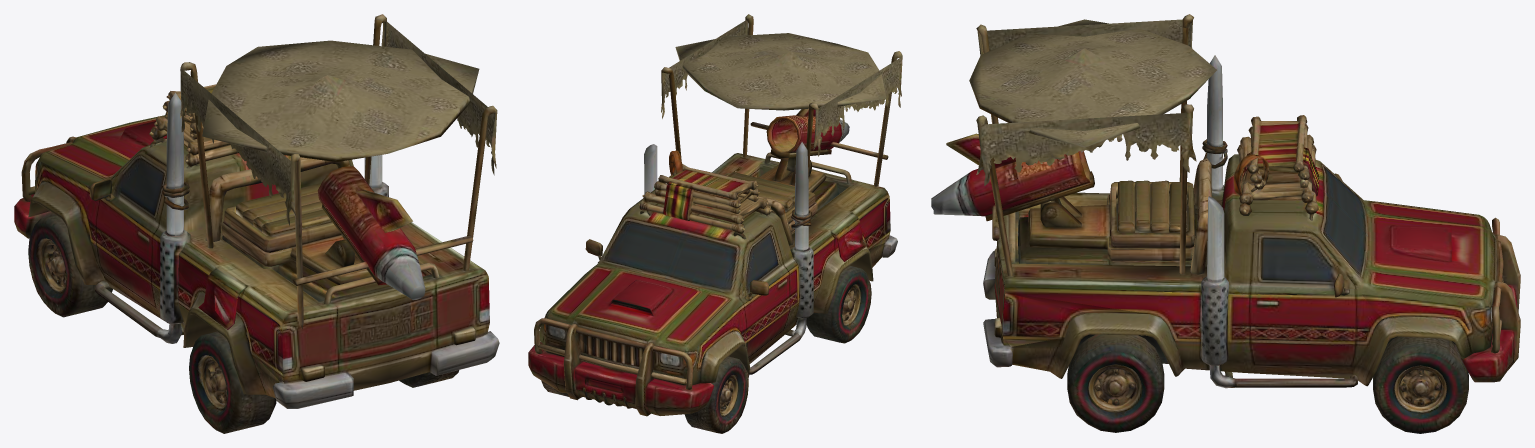
File: slag_hauler.glb
The picture shows the model from 3 angles, left to right: view 1: azimuth 30°, elevation 25°; view 2: azimuth 150°, elevation 25°; view 3: azimuth 270°, elevation 25°; orthographic projection. The views are drawn at different scales.
Parts seen in each view (by area): view 1: Body, Trim; view 2: Body, Trim; view 3: Body, Trim.
Part boxes in pixels (x1,y1,x2,y2): Body: (14,14,499,433); Trim: (35,65,283,382); Body: (528,14,902,433); Trim: (542,169,890,415); Body: (931,14,1520,433); Trim: (1003,19,1483,410).
Size of the model in its own units: 3.25 by 3.87 by 6.31.
Materials: 2 (2 with a texture image).
